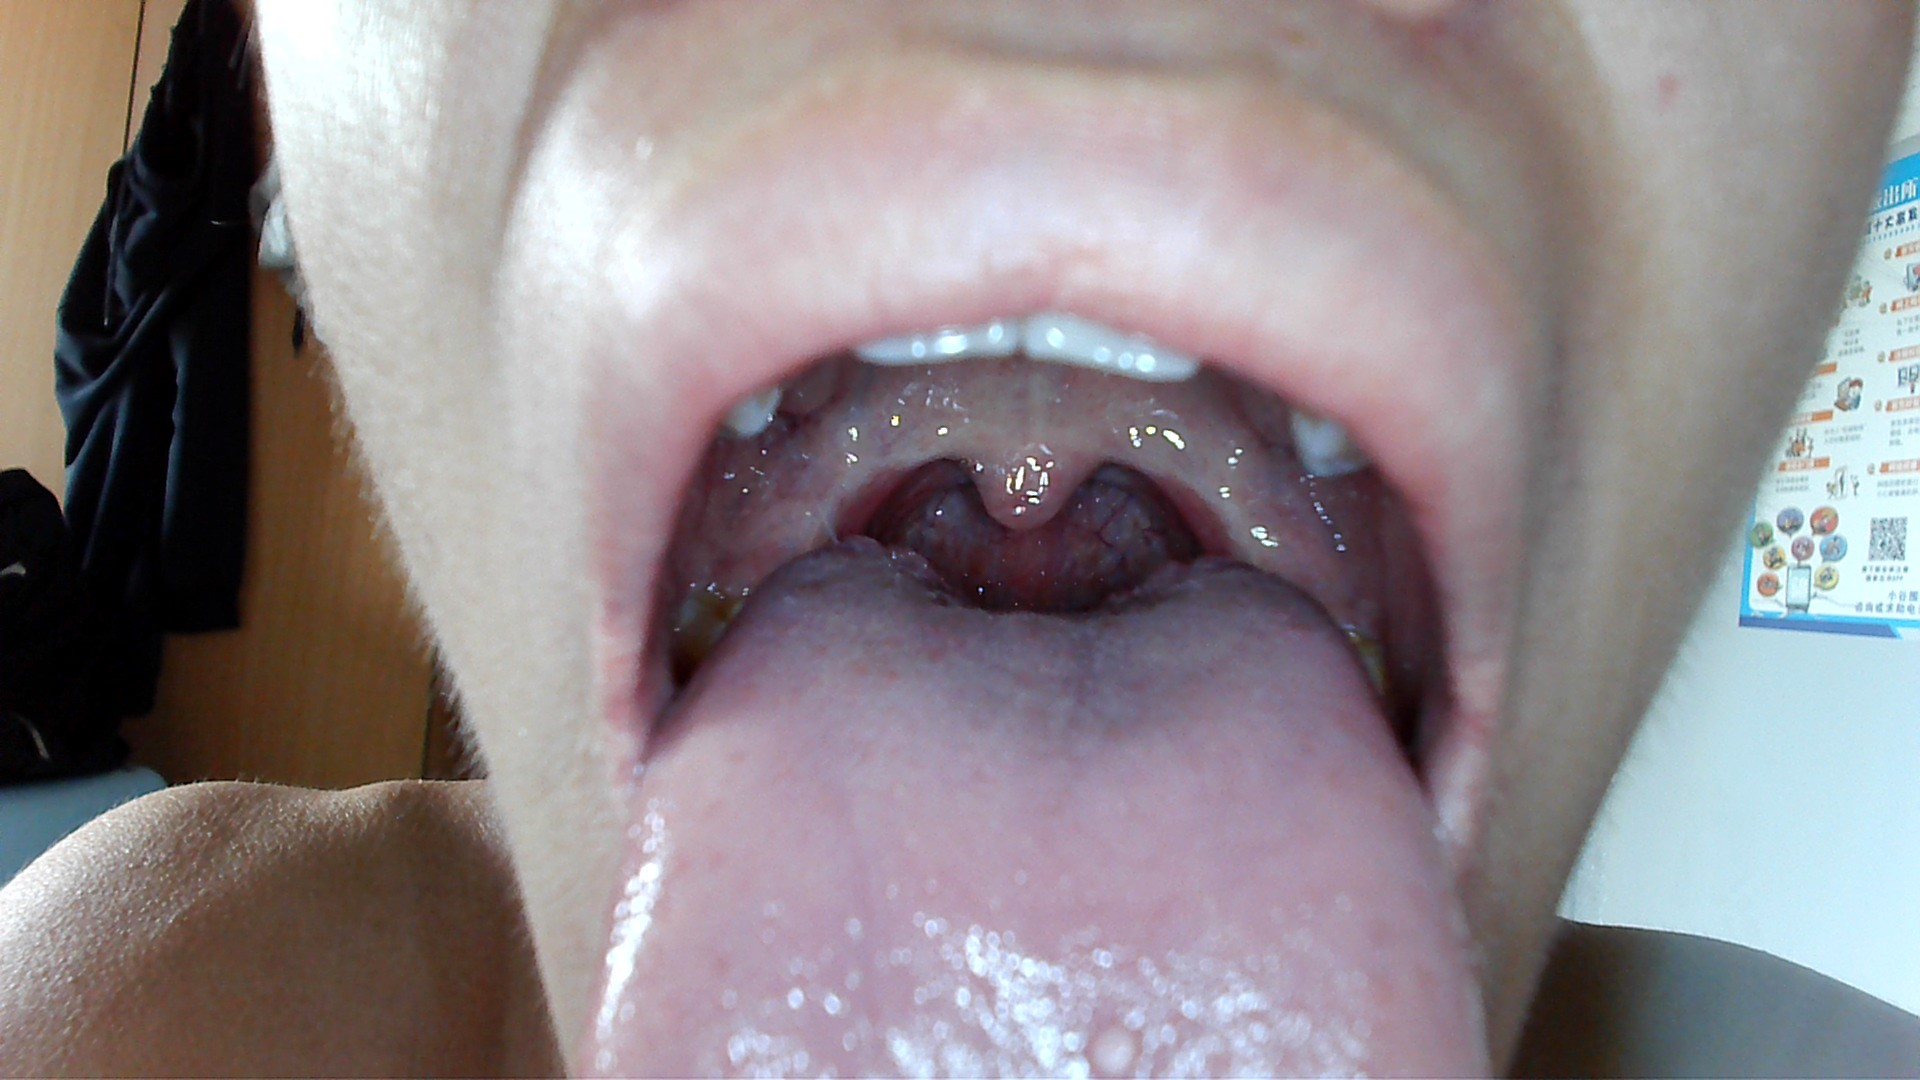throat: (1170, 429, 1266, 564), (774, 444, 890, 549)
